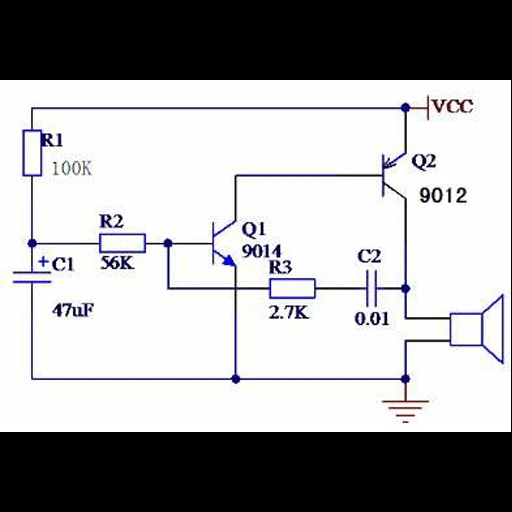capacitor: (358, 266, 384, 309)
firstpolarcapacitor: (6, 253, 52, 289)
firstresistance: (92, 229, 151, 255), (262, 276, 320, 301), (18, 124, 42, 183)
gnd: (380, 397, 430, 425)
loudspeaker: (439, 293, 508, 366)
npn: (199, 212, 241, 273)
pnp: (367, 146, 412, 205)
